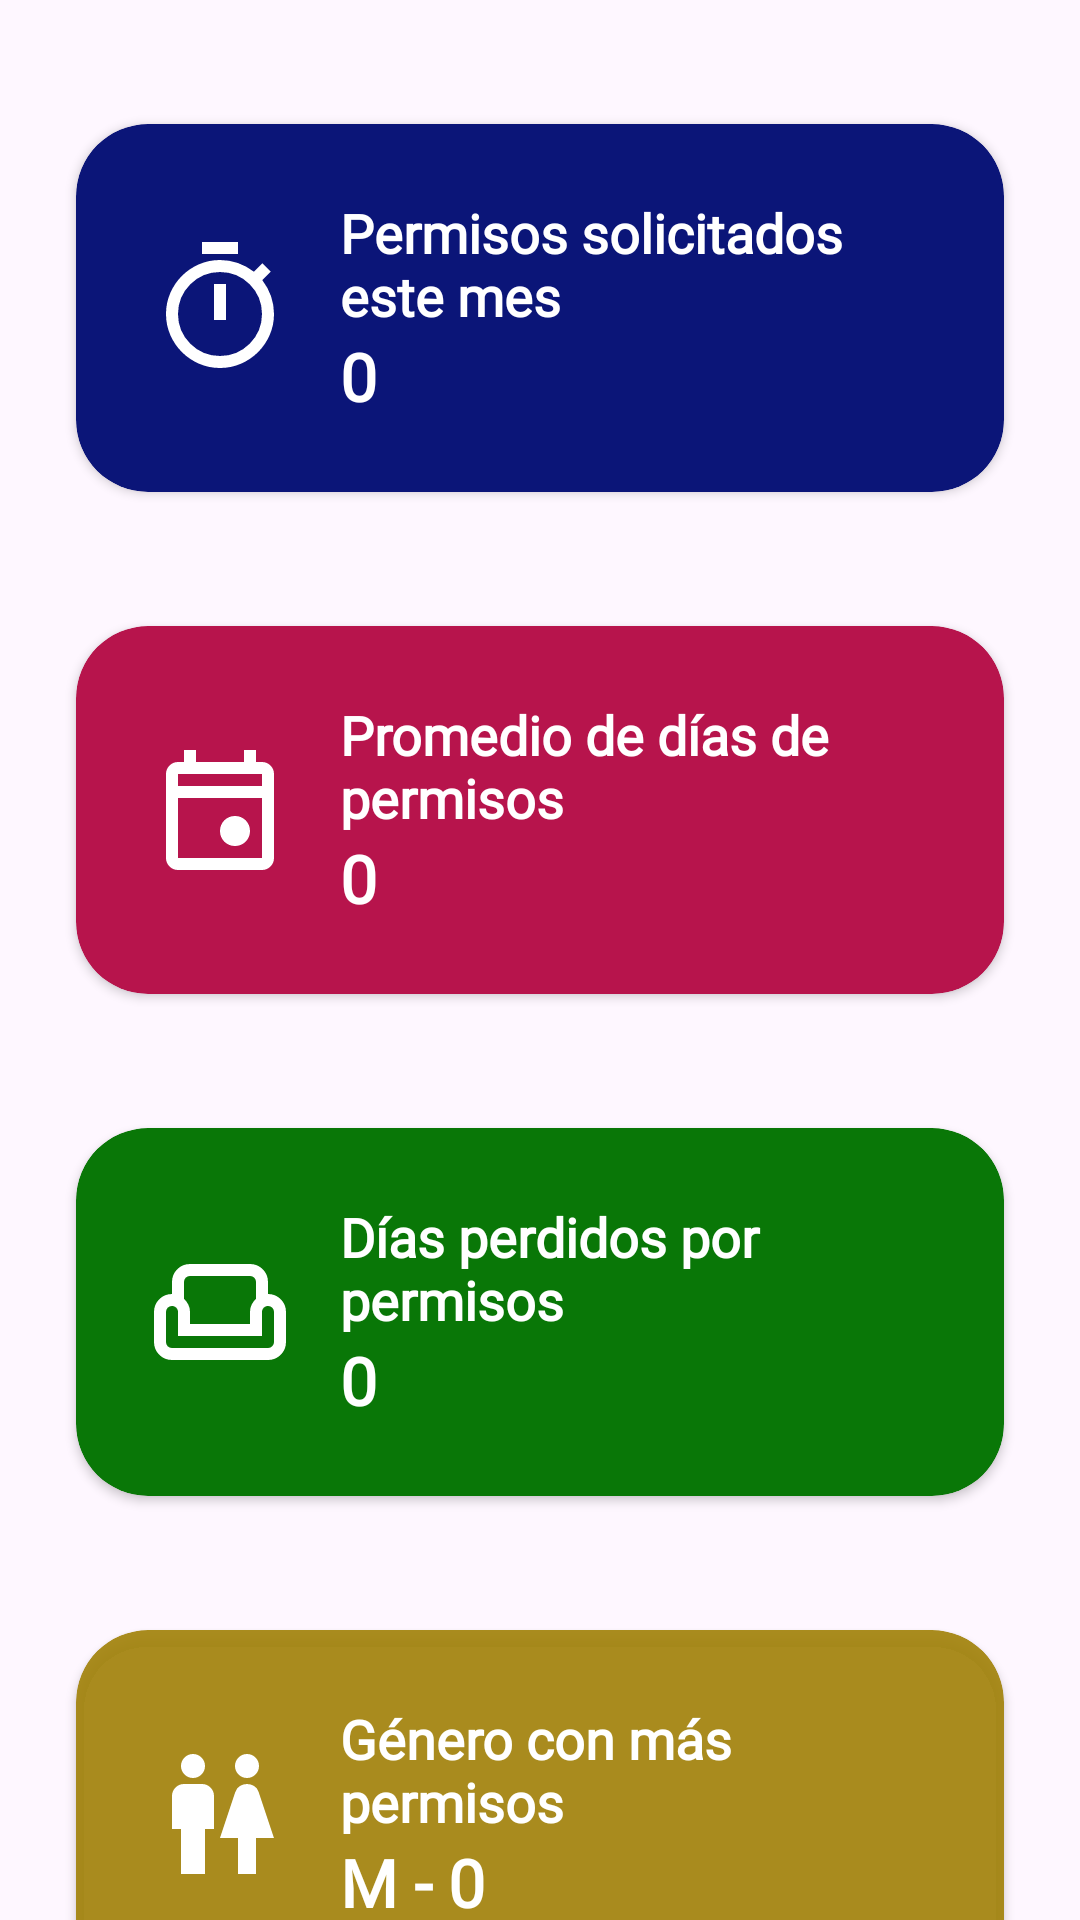

Named icons in this screenshot (1080px x 1920px) and their bounding boxes, rect(x1, y1, x2, y2):
gender: rect(172, 1754, 274, 1874)
timer: rect(166, 242, 274, 368)
weekend: rect(154, 1264, 286, 1360)
